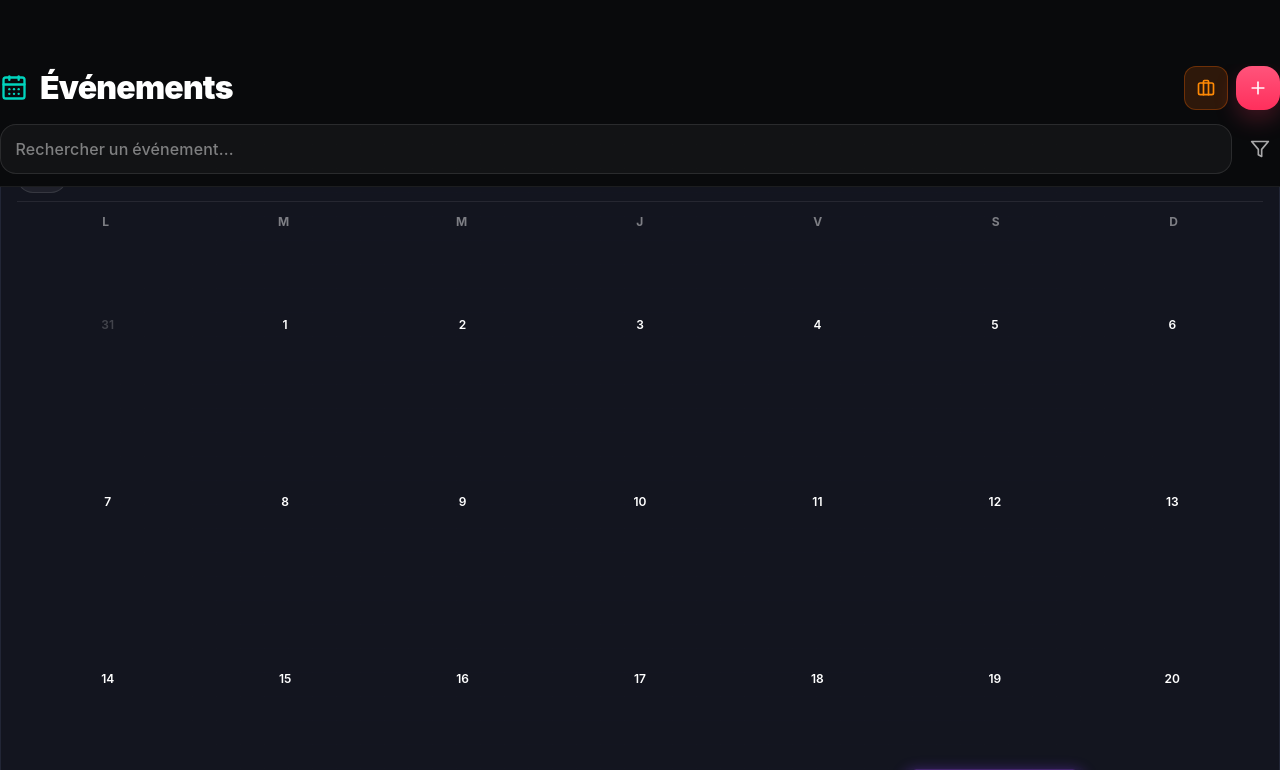
Test: CalendarPage scroll collapse › ouvre Booking par navigation interne sans recharger la PWA
The width and height of the screenshot is (1280, 770).
Click the button named "Ouvrir la prospection" at (1206, 88), box [1184,66,1228,110]
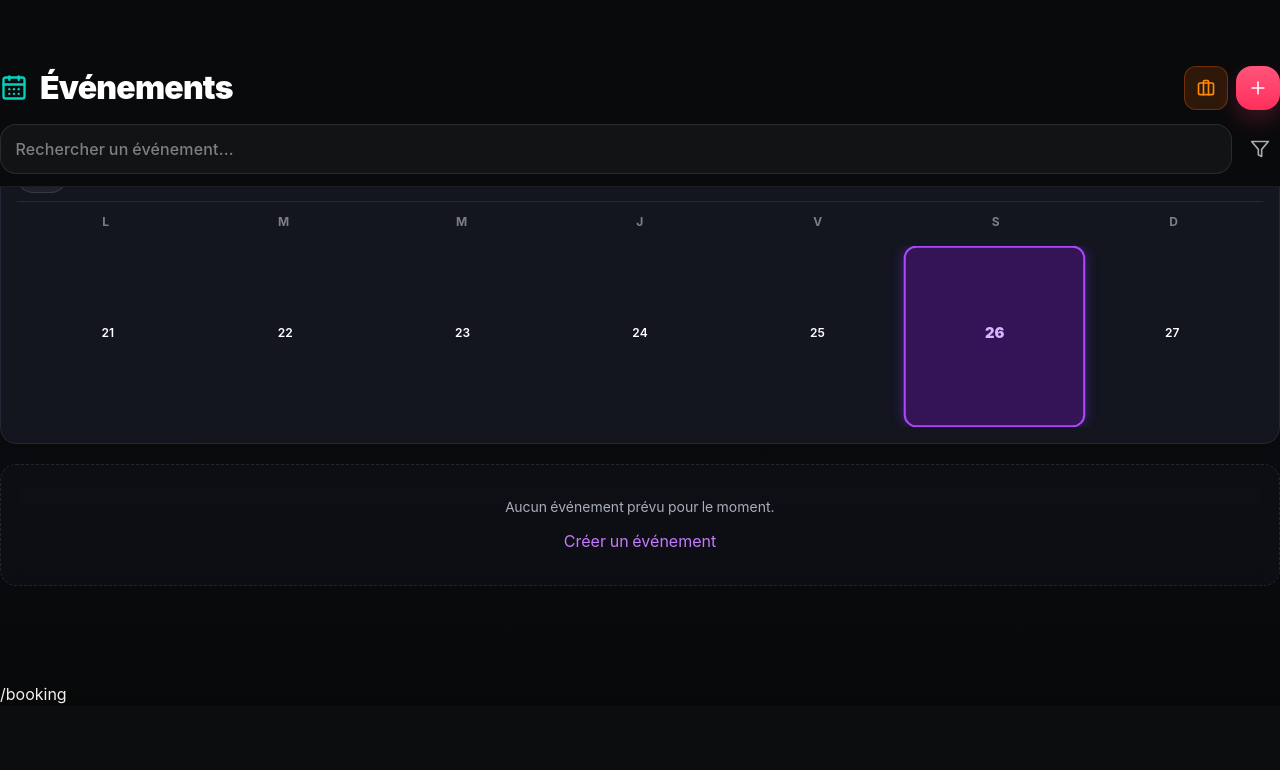
Expected: the text named "Route actuelle" reads "/booking", [0,684,67,704]
